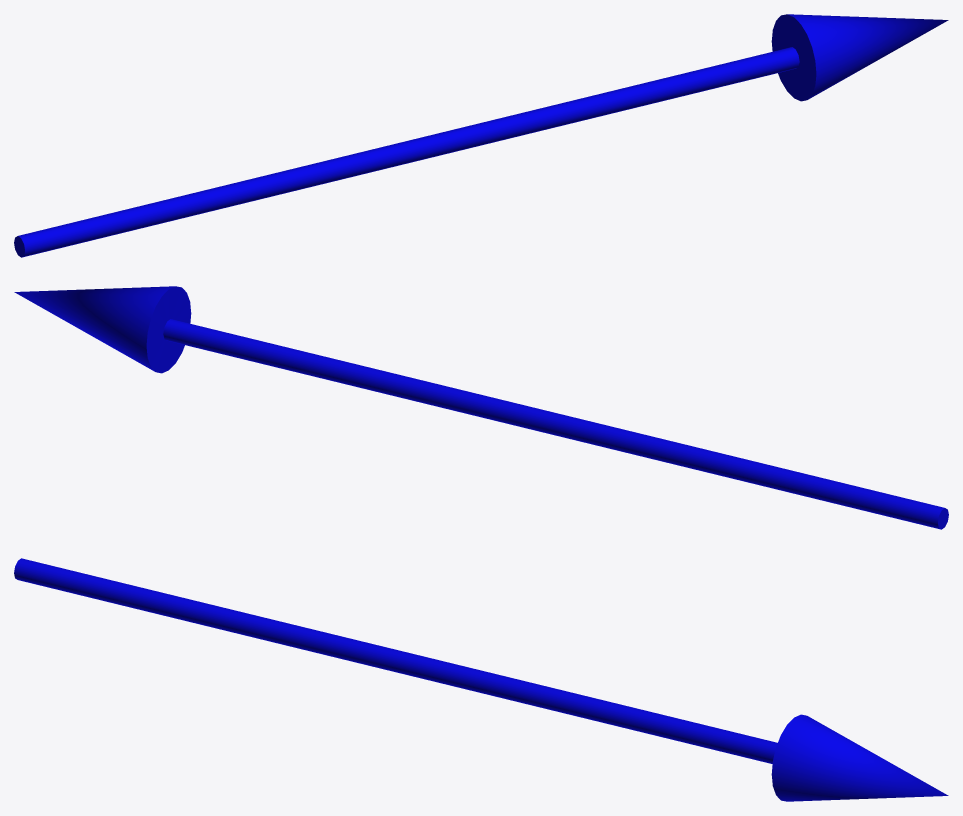
File: Gizmo_Z_blue_coneLine.fbx
The picture shows the model from 3 angles, top to bottom: view 1: azimuth 30°, elevation 25°; view 2: azimuth 150°, elevation 25°; view 3: azimuth 330°, elevation 25°; orthographic projection.
Visible parts, largest first — view 1: Gizmo_Z_blue_coneLine; view 2: Gizmo_Z_blue_coneLine; view 3: Gizmo_Z_blue_coneLine.
Boxes of the visible parts, x1,y1,x2,y2 form: Gizmo_Z_blue_coneLine: (14,14,948,257); Gizmo_Z_blue_coneLine: (14,286,948,529); Gizmo_Z_blue_coneLine: (14,558,948,801).
Size of the model in its own units: 24 by 2 by 2.
